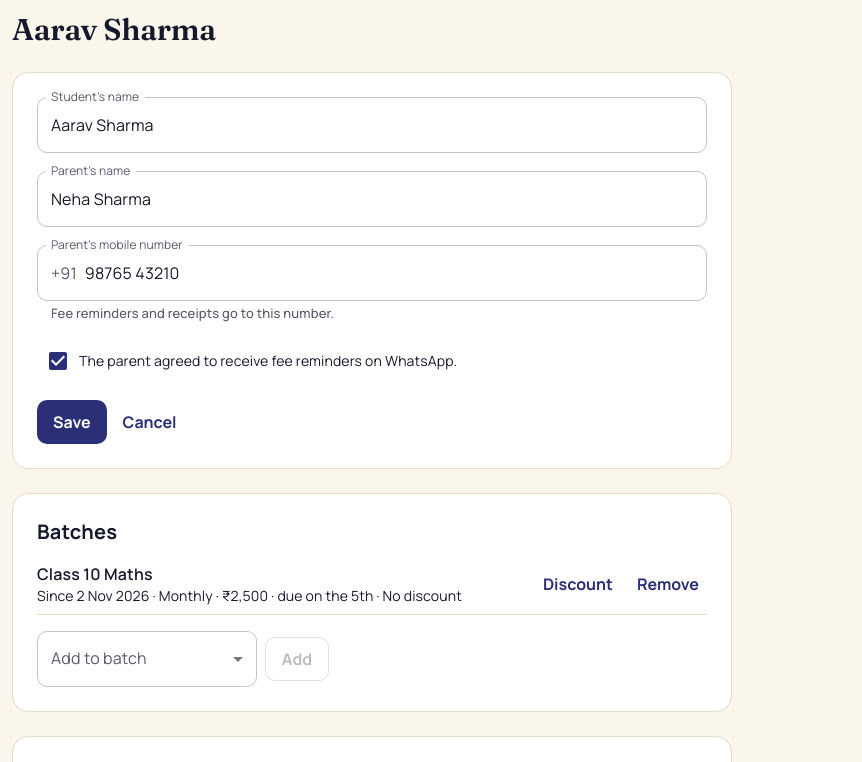
Test: StudentDetail › takes the student out of a batch from today, in India
Expected: the heading "Aarav Sharma" is shown, [12, 12, 216, 48]
Step 1. Click the button with aria-label "Remove from Class 10 Maths" → (668, 584), box [629, 562, 707, 606]
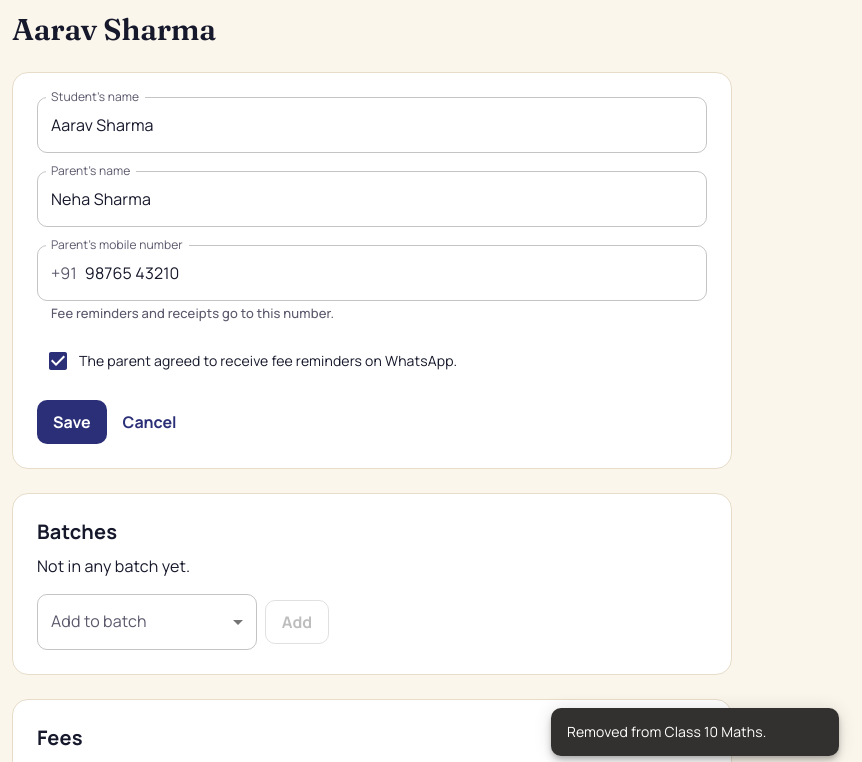
Result: the text "Removed from Class 10 Maths." is shown at [567, 722, 766, 741]
Result: the text "Not in any batch yet." is shown at [37, 555, 190, 577]
